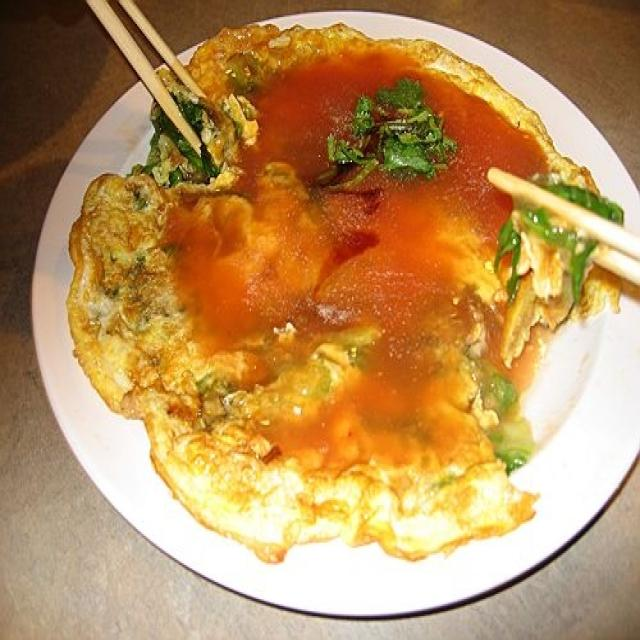熟制海鲜: (47, 15, 624, 598)
